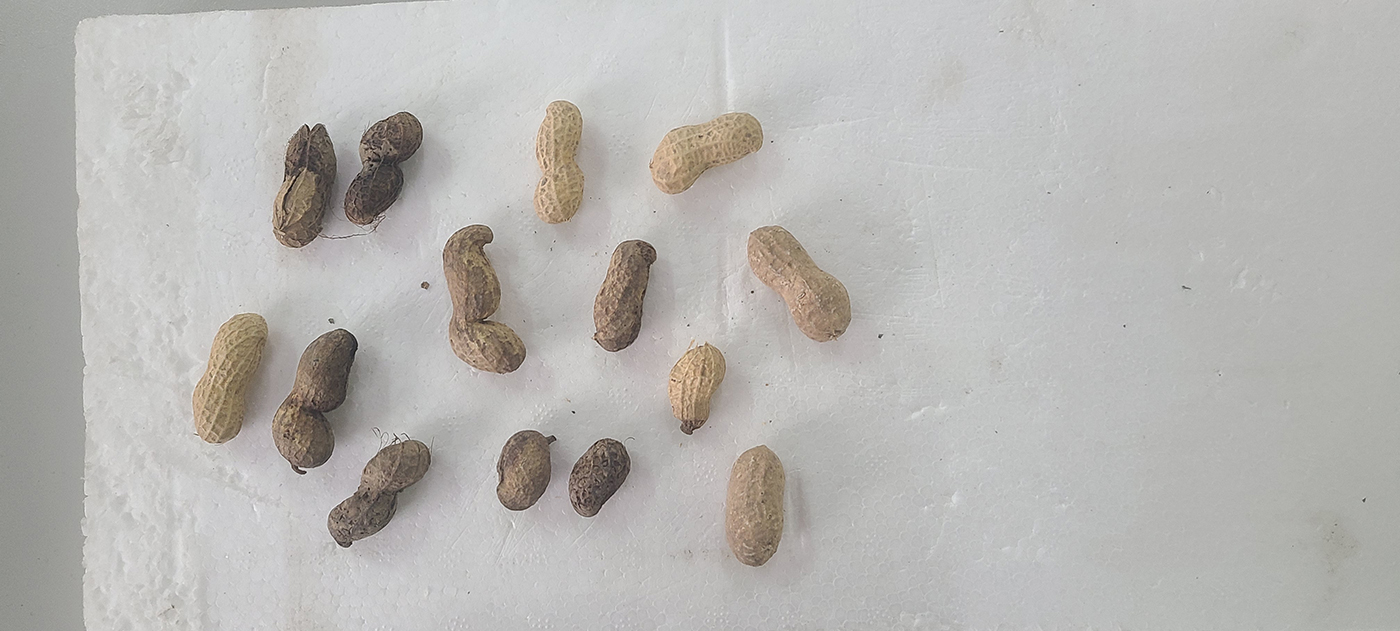h: (747, 223, 852, 341), (191, 311, 268, 444), (648, 110, 765, 195), (723, 444, 787, 566), (533, 100, 586, 225), (669, 345, 727, 433)
l: (442, 224, 525, 373), (272, 328, 358, 468), (327, 440, 431, 547), (345, 111, 424, 225), (272, 124, 337, 249), (592, 240, 657, 353), (568, 438, 630, 518), (495, 429, 552, 511)
